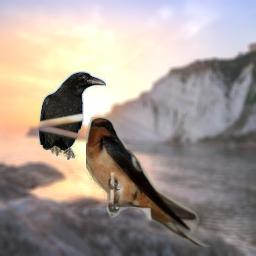Crow: (38, 71, 106, 160)
Swallow: (86, 117, 210, 247)
